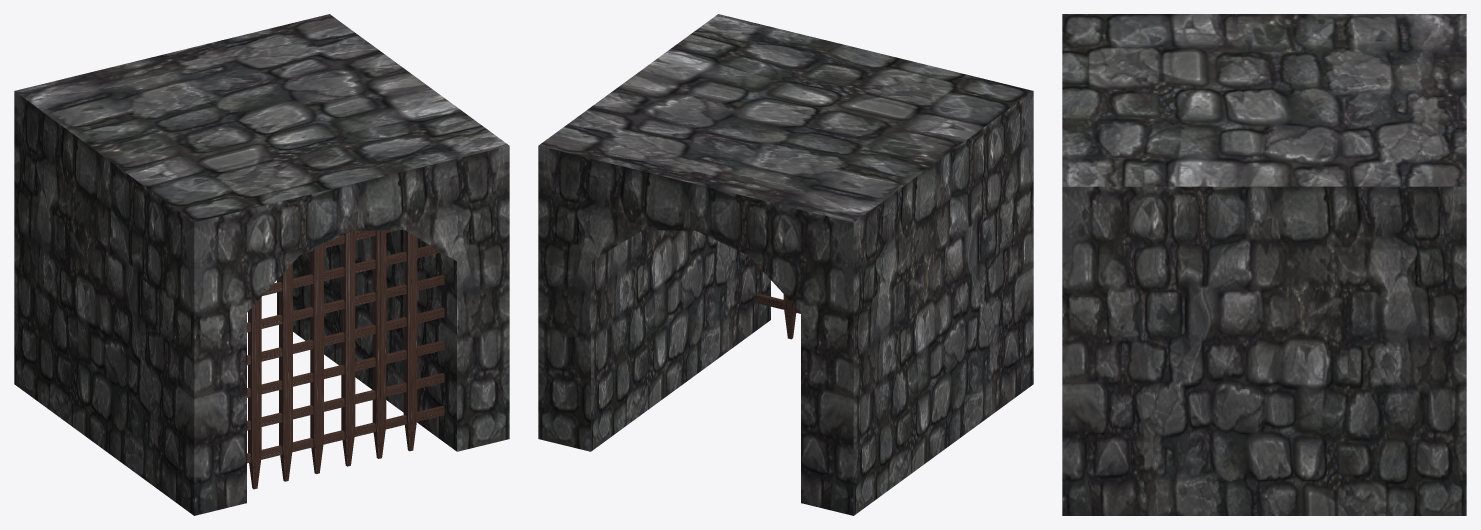
The model's file is Closed_Gate_test.fbx.
3 views of the same model, side by side, from view 1: azimuth 30°, elevation 25°; view 2: azimuth 150°, elevation 25°; view 3: azimuth 270°, elevation 25° (orthographic). The views are drawn at different scales.
Parts seen in each view (by area): view 1: pCube37, pCube51; view 2: pCube37, pCube51; view 3: pCube37.
Part boxes in pixels (bbox=[...]): pCube37: bbox=[14, 14, 509, 515]; pCube51: bbox=[247, 230, 444, 489]; pCube37: bbox=[538, 14, 1033, 515]; pCube51: bbox=[756, 264, 800, 339]; pCube37: bbox=[1062, 14, 1466, 515].
Bounding box in the file's own units: 172 × 153 × 170.
Materials: 2 (2 with a texture image).
